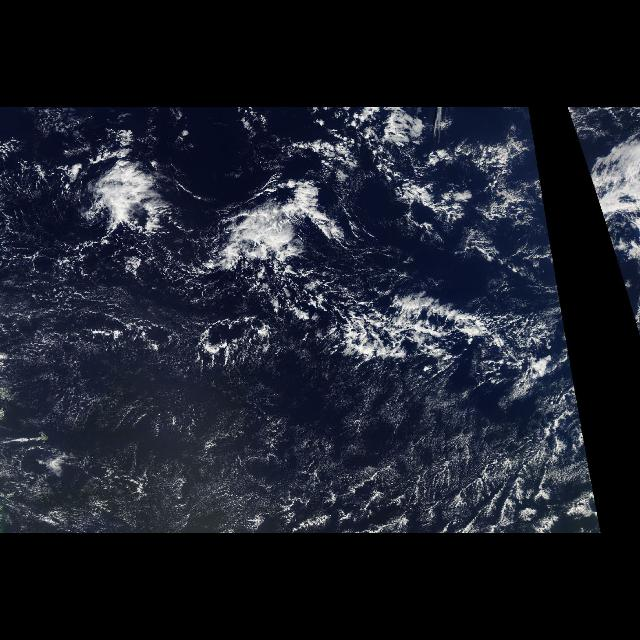Fish: (78, 135, 510, 371)
Gravel: (40, 343, 594, 531)
Sugar: (8, 347, 560, 517)
